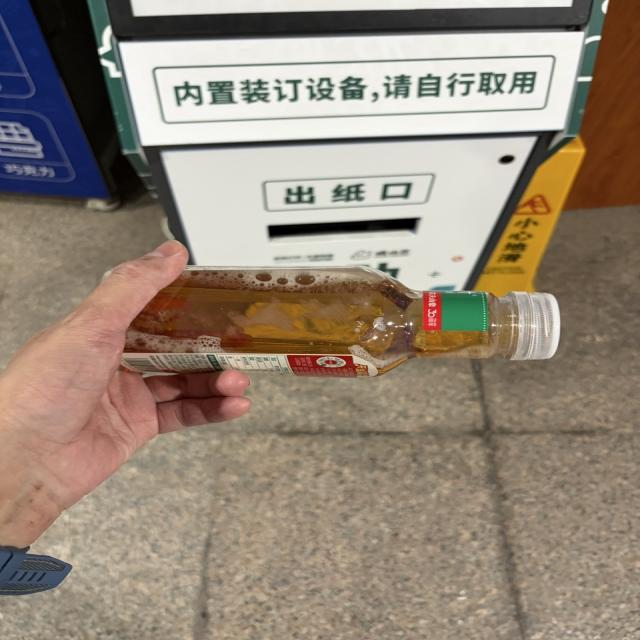medium: (119, 266, 560, 378)
